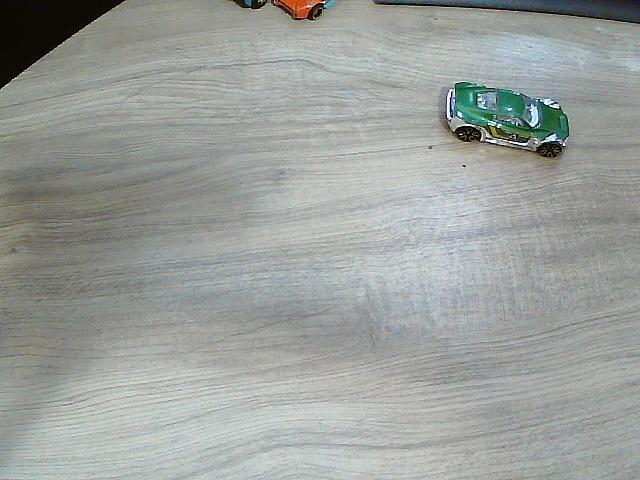Carro: (442, 82, 570, 153), (232, 0, 340, 21)
